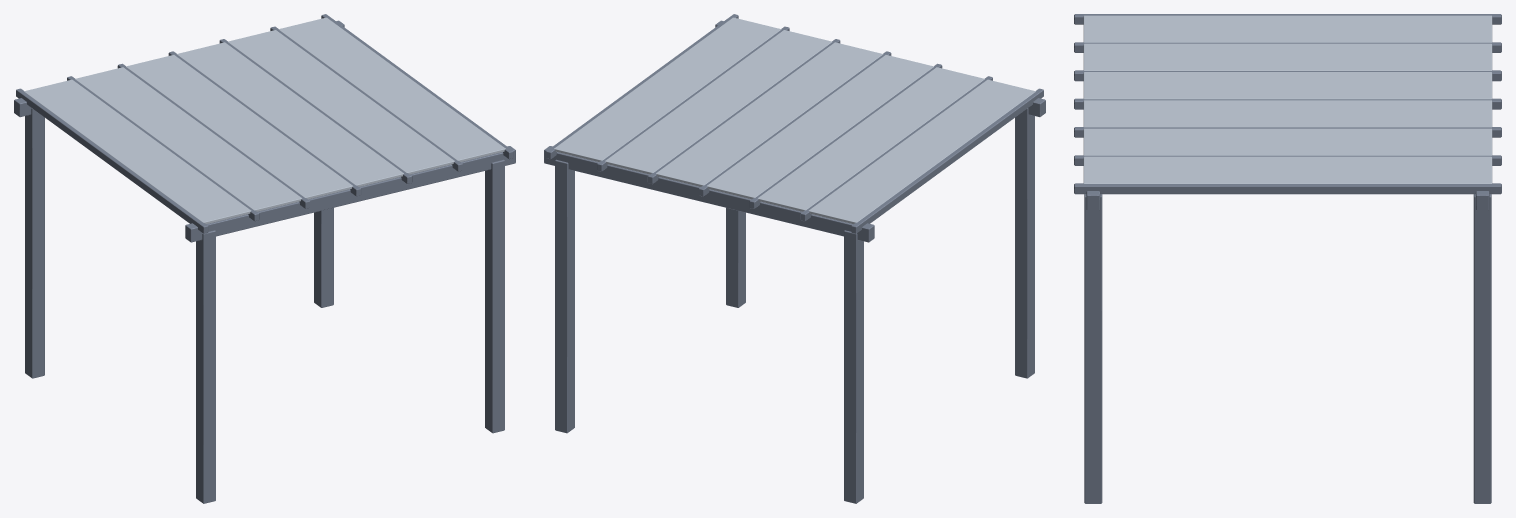
File: garden-pergola-shade-lite.glb
3 renders of one model, left to right at view 1: azimuth 30°, elevation 25°; view 2: azimuth 150°, elevation 25°; view 3: azimuth 270°, elevation 25°, orthographic. The views are drawn at different scales.
Visible parts, largest first — view 1: garden-pergola-shade; view 2: garden-pergola-shade; view 3: garden-pergola-shade.
Boxes of the visible parts, x1,y1,x2,y2 form: garden-pergola-shade: (14, 14, 515, 503); garden-pergola-shade: (544, 14, 1045, 503); garden-pergola-shade: (1074, 14, 1501, 503).
Size of the model in its own units: 3.2 by 2.65 by 3.2.
